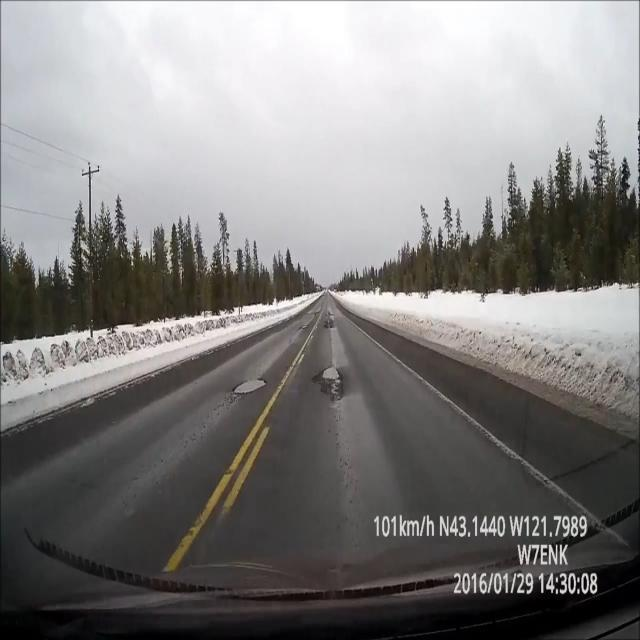pothole: (313, 354, 346, 404), (227, 366, 269, 401), (326, 307, 339, 332)
